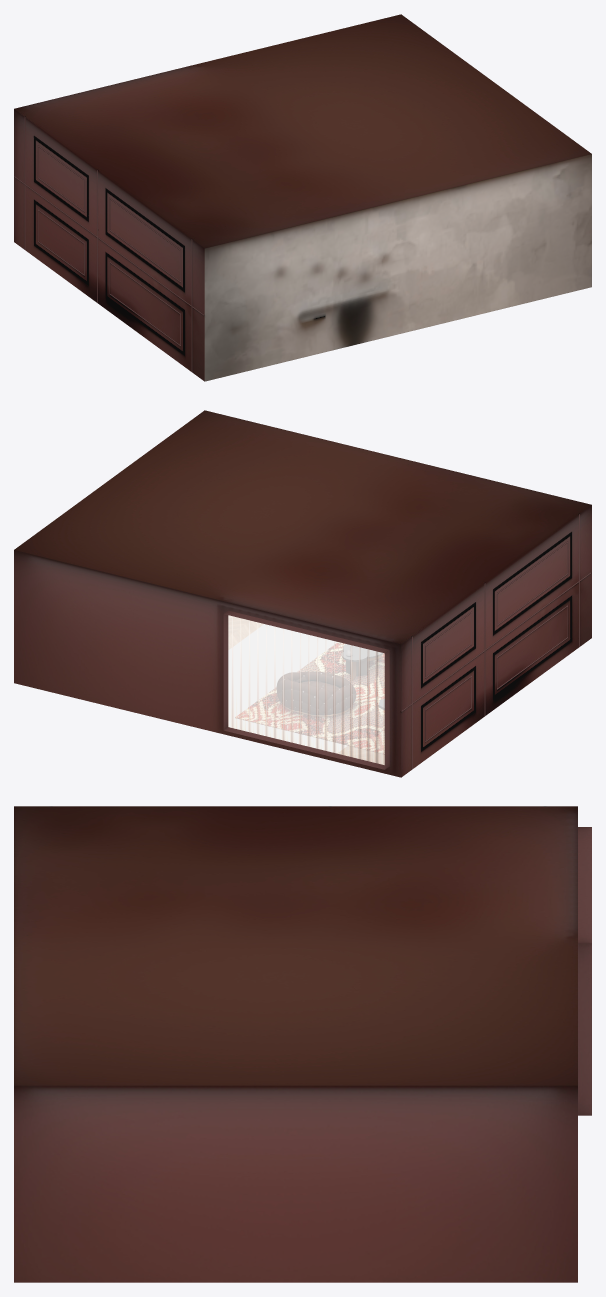
Rendered from myroom.glb.
3 views of the same model, one above another, from view 1: azimuth 30°, elevation 25°; view 2: azimuth 150°, elevation 25°; view 3: azimuth 270°, elevation 25° (orthographic). The views are drawn at different scales.
Visible parts, largest first — view 1: house, wall; view 2: house, curtain, Plane, carpet, sofa, floor, table; view 3: house.
Part boxes in pixels (box(x1,y1,x2,y2)): house: box(14, 14, 591, 381); wall: box(204, 154, 591, 381); house: box(14, 410, 591, 777); curtain: box(228, 615, 384, 765); Plane: box(228, 624, 346, 752); carpet: box(235, 642, 384, 754); sofa: box(277, 672, 355, 716); floor: box(228, 616, 384, 764); table: box(342, 644, 384, 709); house: box(14, 806, 591, 1282).
Size of the model in its own units: 1217 by 401 by 1063.
19 materials, 19 textured.
